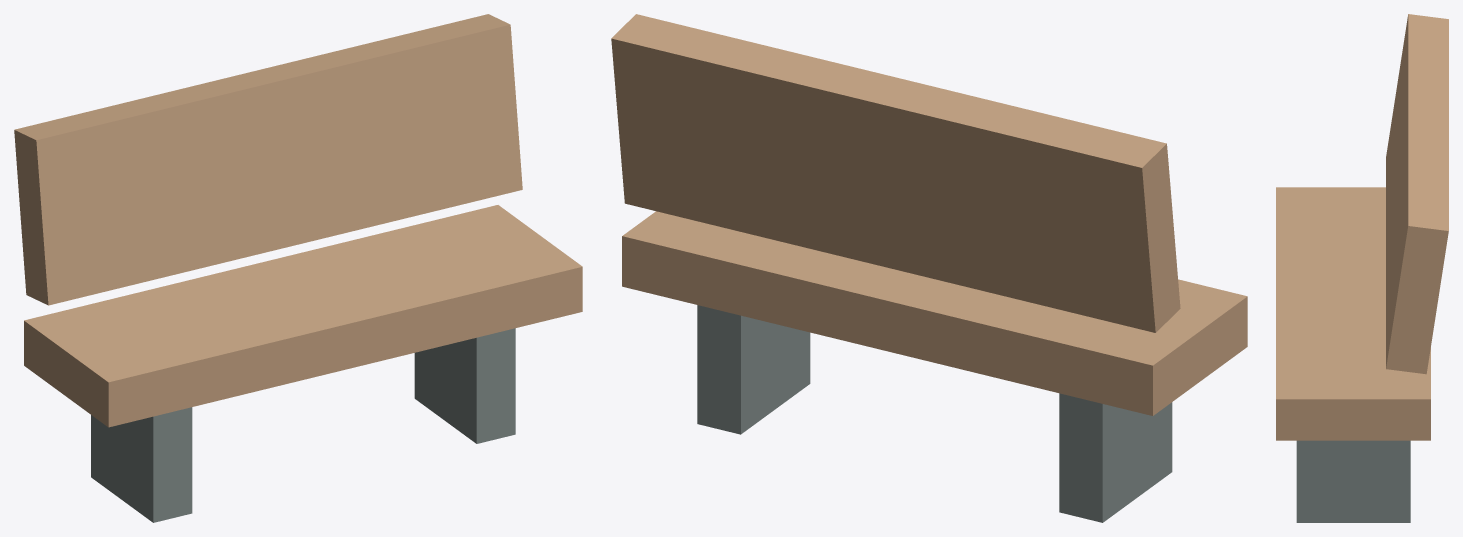
Rendered from park-bench.glb.
The picture shows the model from 3 angles, left to right: view 1: azimuth 30°, elevation 25°; view 2: azimuth 150°, elevation 25°; view 3: azimuth 270°, elevation 25°; orthographic projection. The views are drawn at different scales.
Parts seen in each view (by area): view 1: back, seat, leg-left, leg-right; view 2: back, seat, leg-left, leg-right; view 3: seat, back, leg-right.
Part boxes in pixels (x1,y1,x2,y2): back: (14,14,522,305); seat: (24,205,582,427); leg-left: (91,407,192,522); leg-right: (414,328,515,443); back: (611,14,1180,332); seat: (622,211,1247,415); leg-left: (1059,393,1172,522); leg-right: (697,305,810,434); seat: (1276,187,1430,440); back: (1386,14,1448,374); leg-right: (1296,440,1410,522).
Size of the model in its own units: 2.2 by 1.56 by 0.7578.
